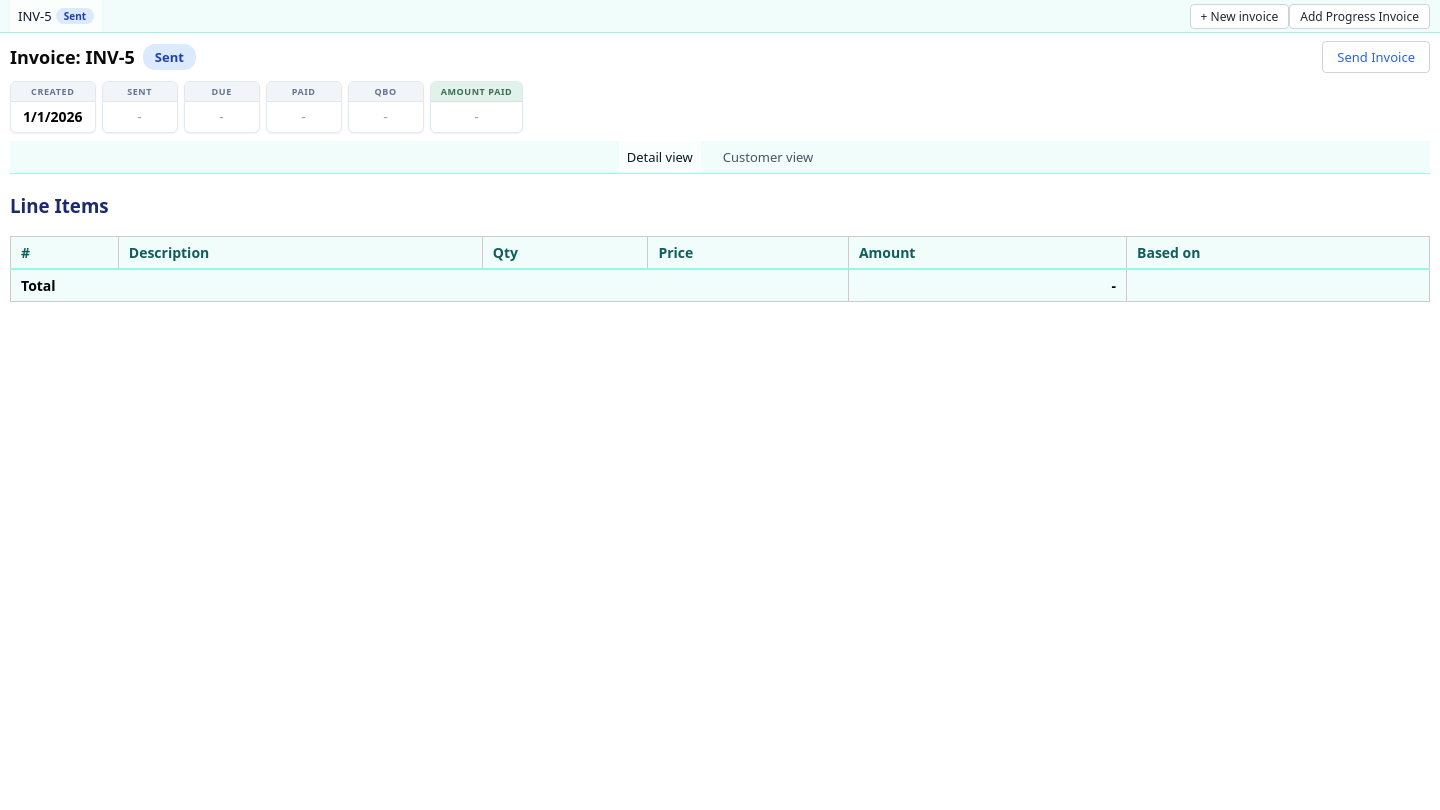
Scenario: InvoicePanel Add Deposit Invoice — state 1 (no draft) › clicking Add Progress Invoice opens the modal with the progress heading
The width and height of the screenshot is (1440, 810).
Step 1. Click the button "Add Progress Invoice" → (1360, 16), box x1=1289 y1=4 x2=1430 y2=28
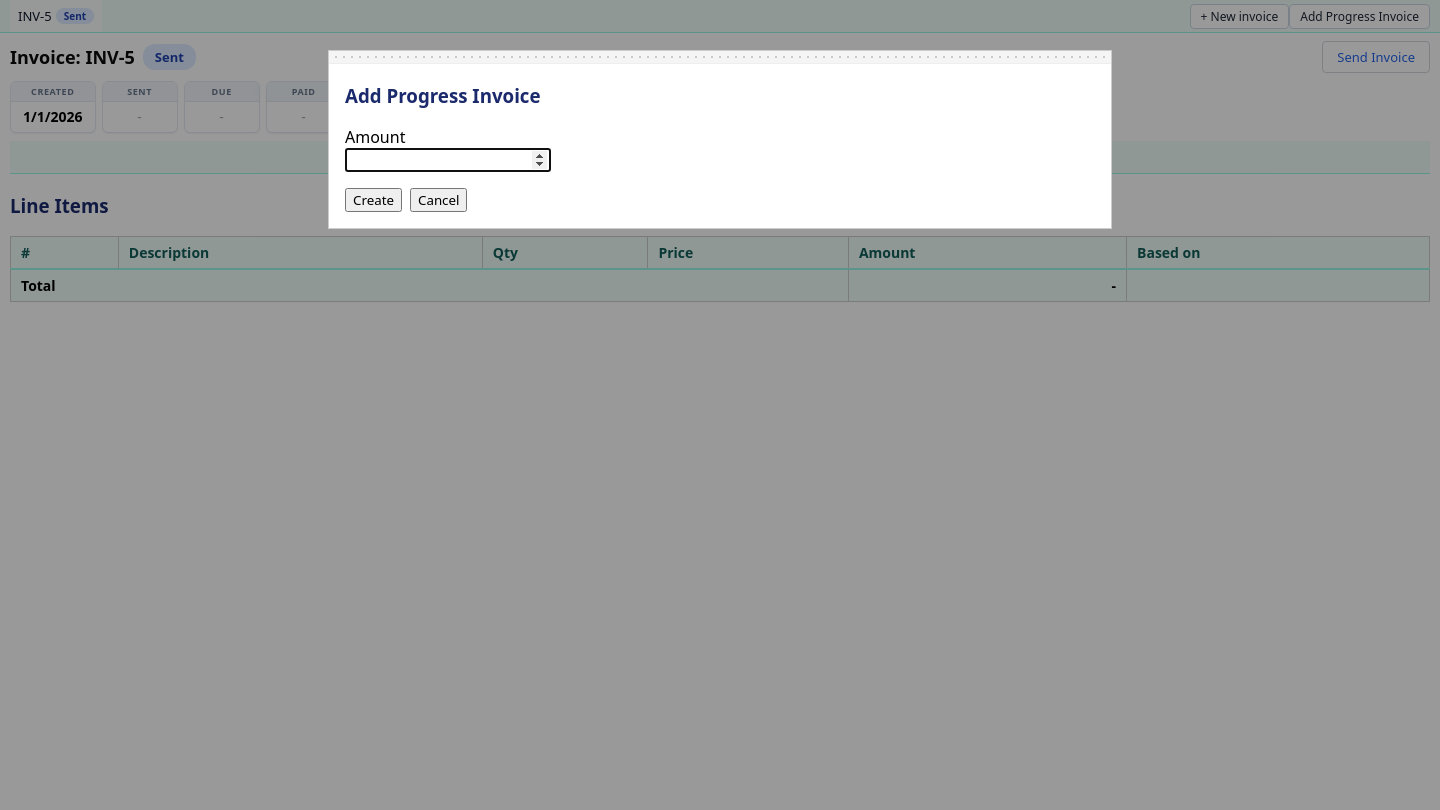
expect the heading "Add Progress Invoice" is shown: met, box x1=345 y1=83 x2=540 y2=108
